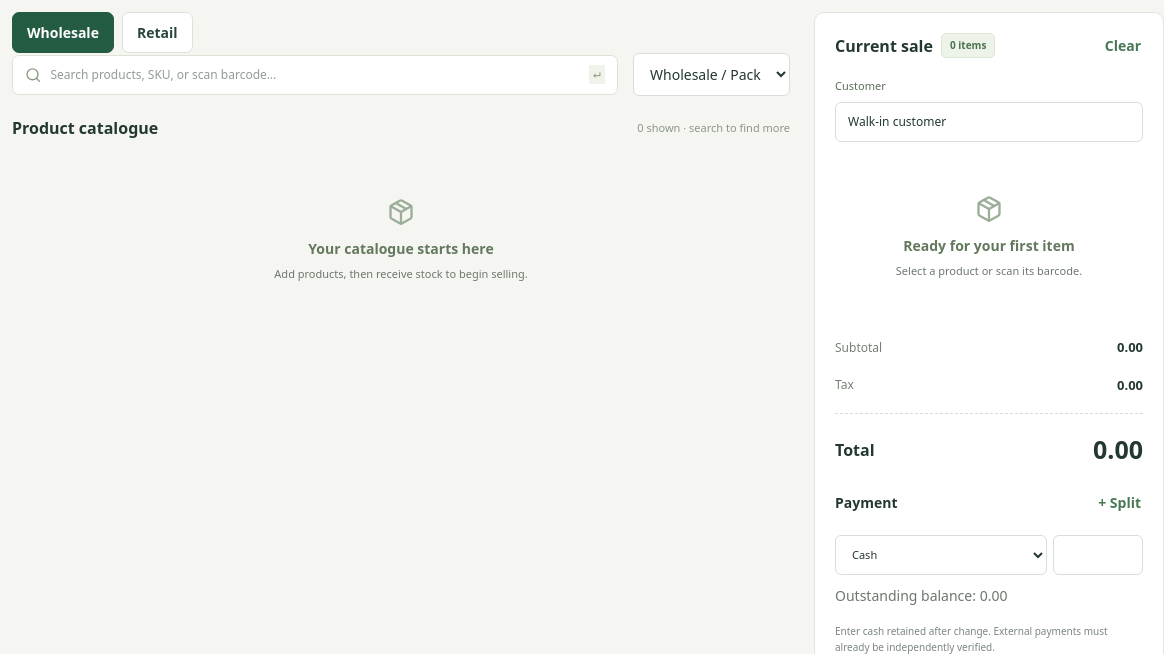
Test: keeps pack and unit cart lines separate for wholesale
Select "Wholesale / Pack" in the dropdown named "Default selling mode" at (712, 74), box [633,53,790,96]
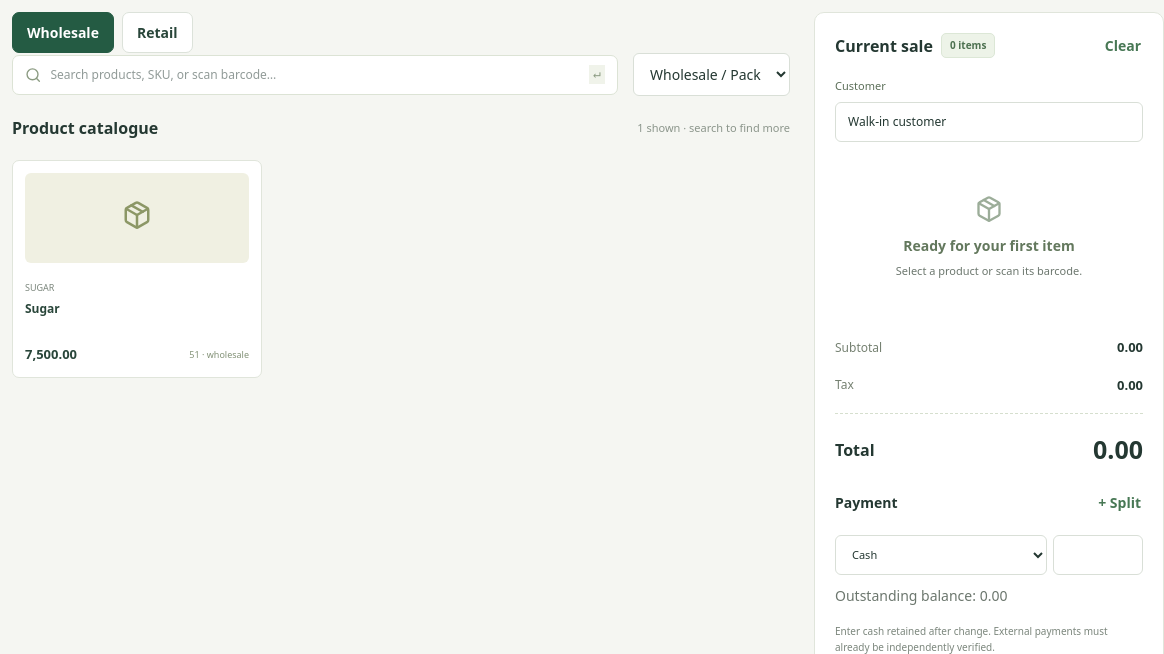
Click the button "SUGAR Sugar 7,500.00 51 · wholesale".
click(137, 269)  # box [12,160,262,378]
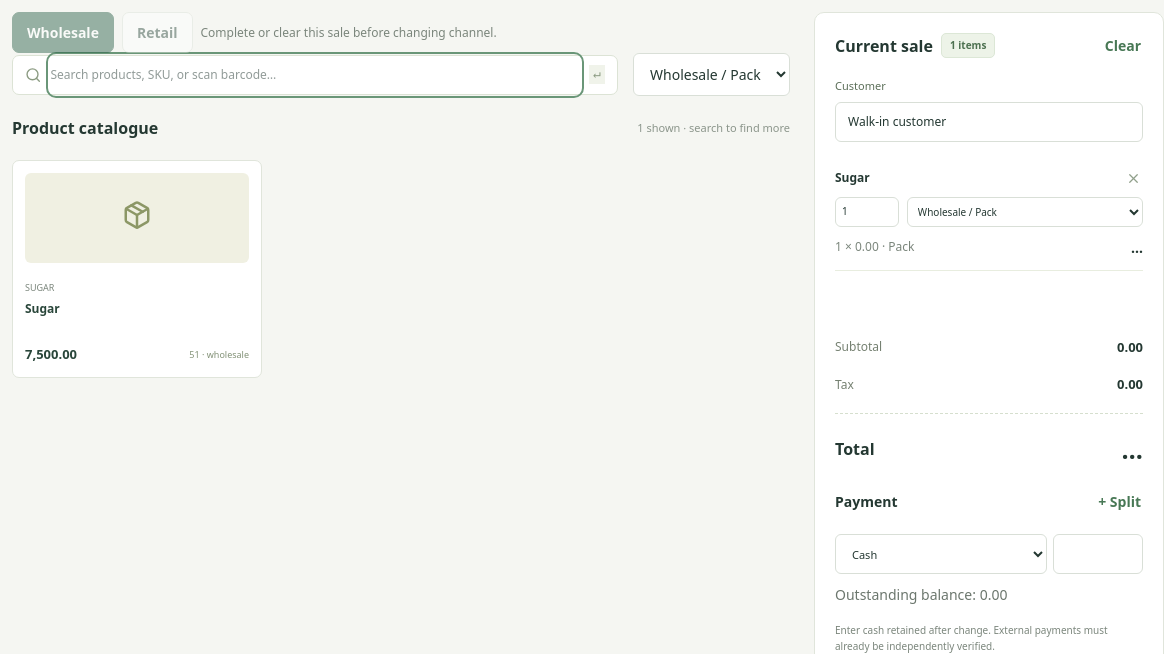
Select "Wholesale / Unit" in the dropdown named "Default selling mode" at (712, 74), box [633,53,790,96]
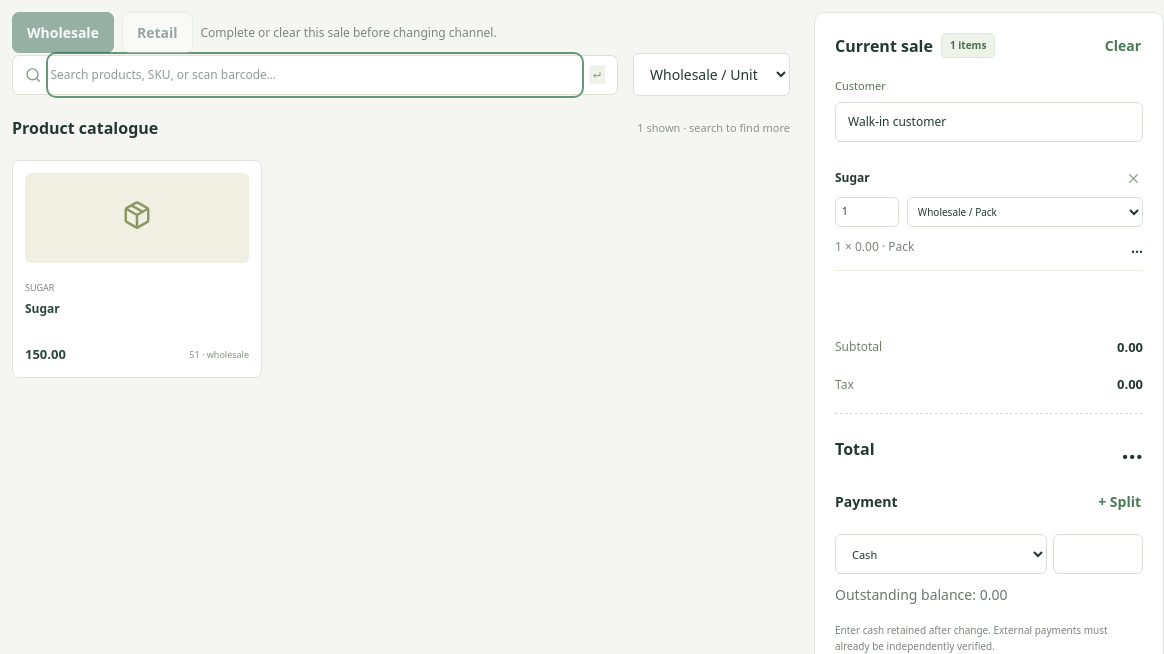
Click the button "SUGAR Sugar 150.00 51 · wholesale".
click(137, 269)  # box [12,160,262,378]
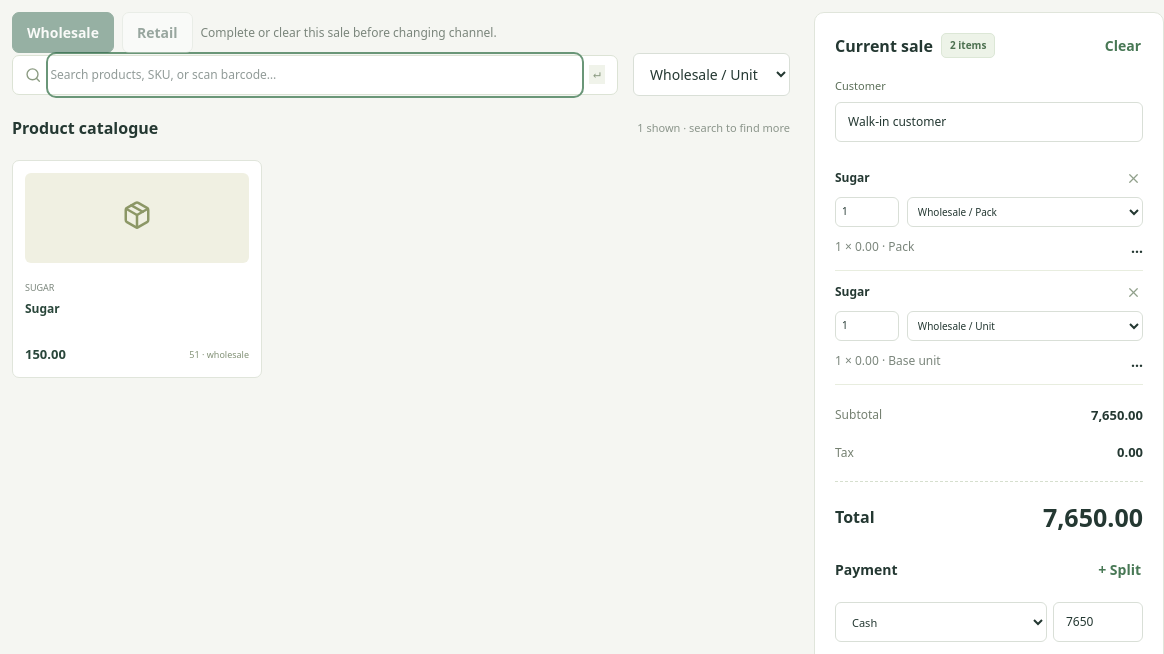
Expected: the number of number fields named "Quantity Sugar" is 2, [835,196,899,226]; [835,310,899,340]
